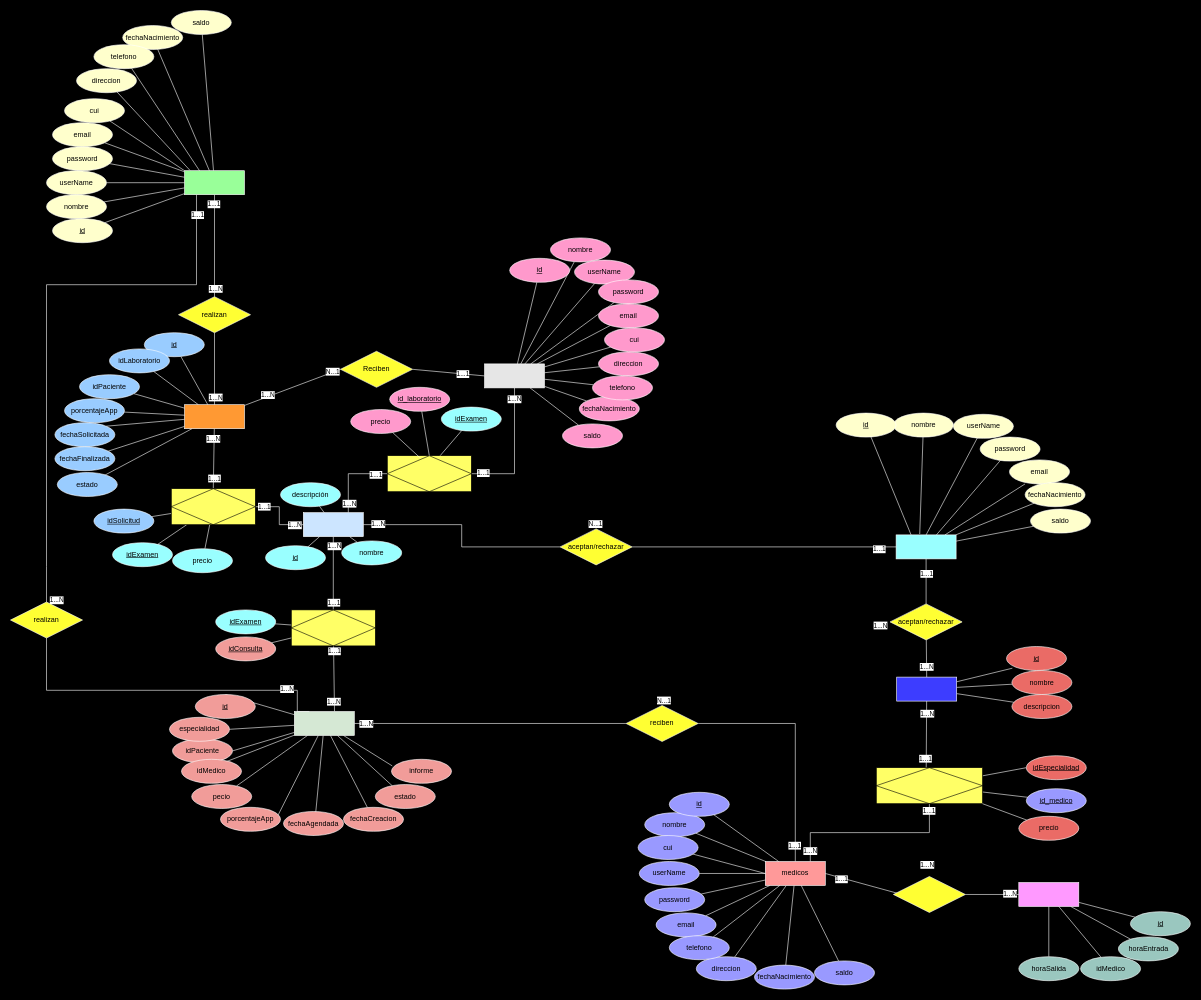
This 1201x1000 diagram has some shape labels left out. The shapes that lost their labels are listed below. From the top down, each one's centre as x and y in pixels, then its label:
At point 214,182: "pacientes".
At point 514,375: "laboratorios".
At point 214,416: "solicitudes".
At point 429,473: "examenes_laboratorios".
At point 213,506: "examenes_solicitud".
At point 333,524: "examenes".
At point 926,546: "administrador".
At point 333,627: "examenes_consulta".
At point 926,688: "especialidades".
At point 324,723: "consultas".
At point 929,785: "especialidades_medicos".
At point 929,894: "tienen".
At point 1048,894: "horarios".
